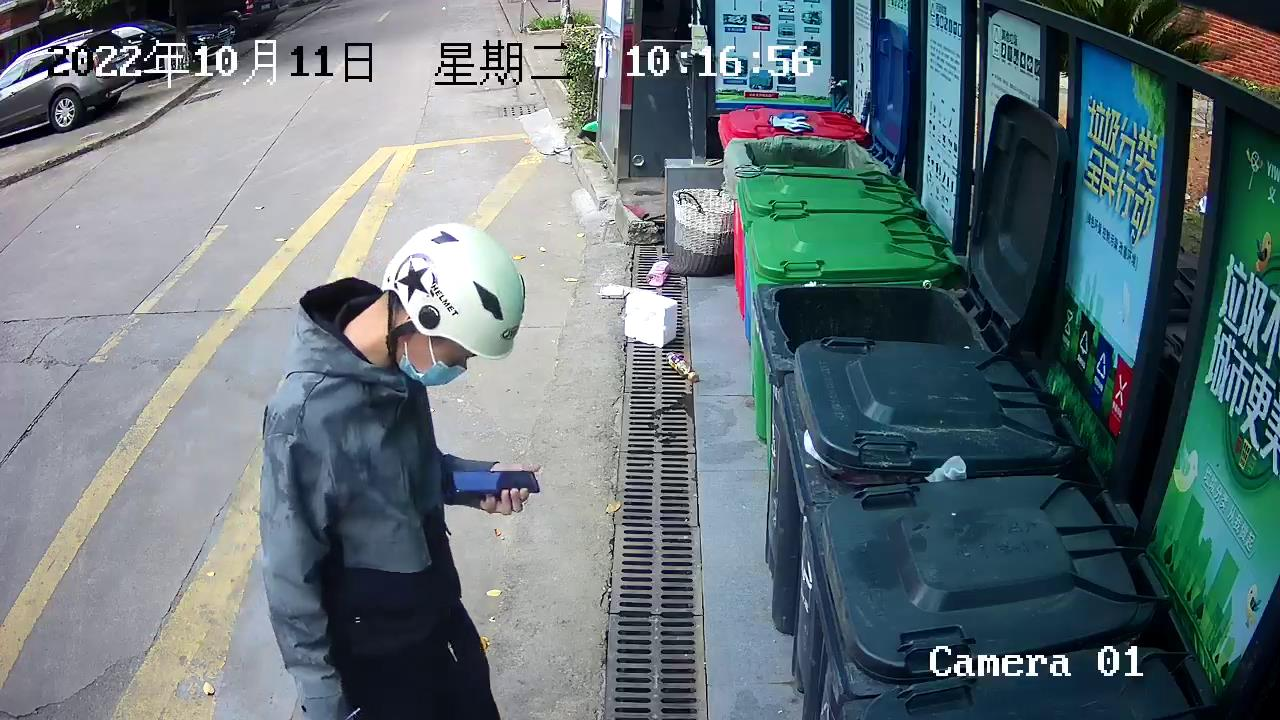person: (248, 216, 546, 720)
suliaozhipin: (664, 348, 704, 388), (641, 257, 674, 290)
zhizhipin: (622, 286, 681, 349)
